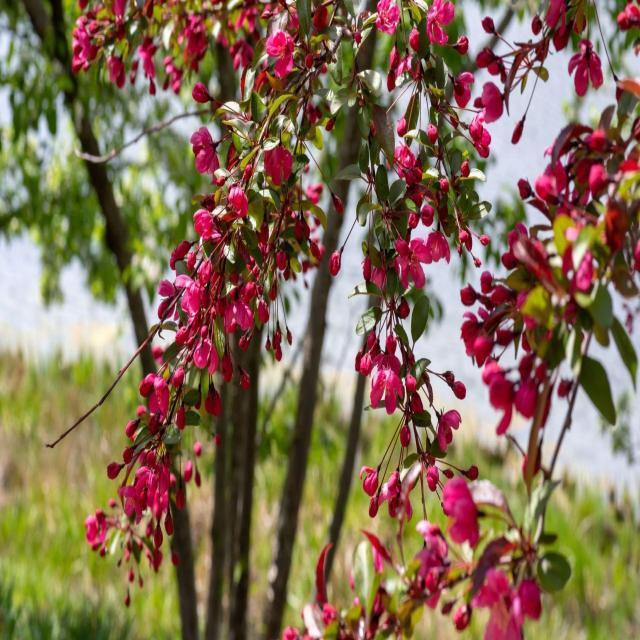other: (334, 177, 486, 597), (148, 16, 498, 161), (140, 189, 278, 518), (510, 133, 620, 427)
